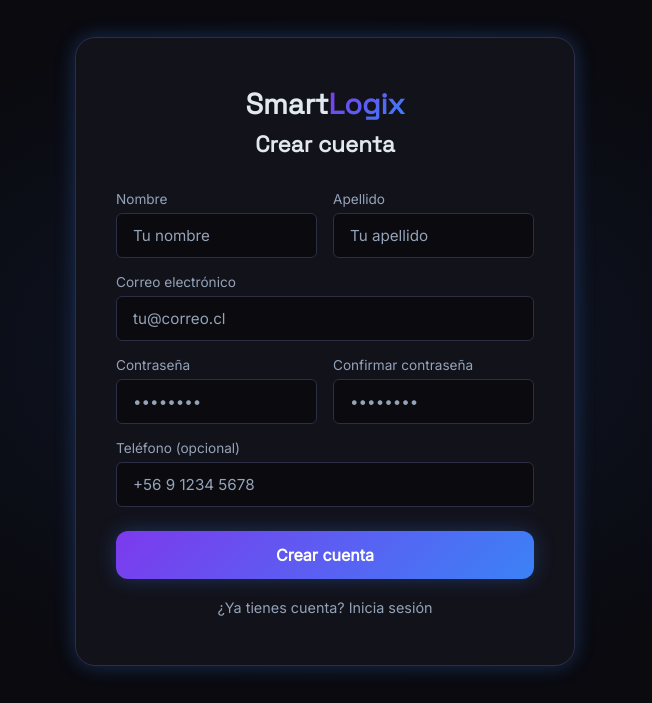
Test: HU-04 · Registro de usuario › CA3: muestra error si el correo es inválido
Type "Diego" into the field with test id "input-nombre" at (216, 235), box [116,212,317,258]
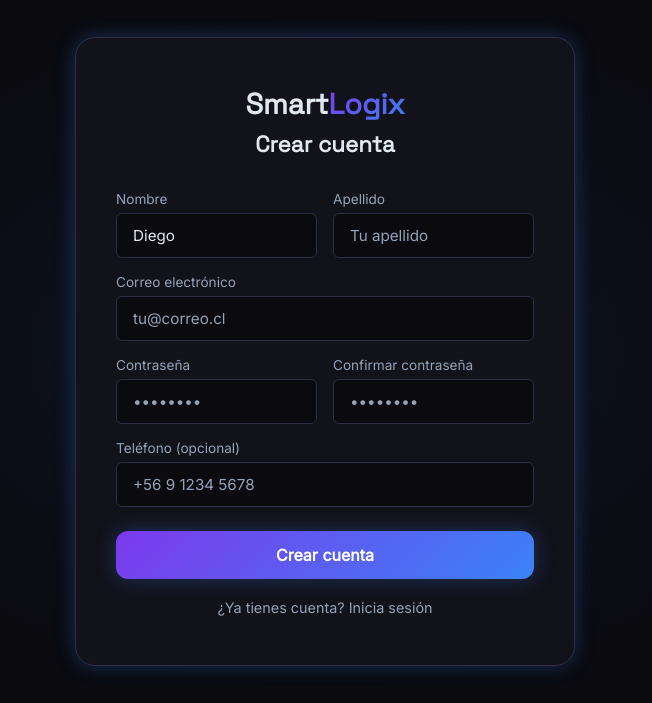
Type "Tatin" into the field with test id "input-apellido" at (434, 235), box [333,212,534,258]
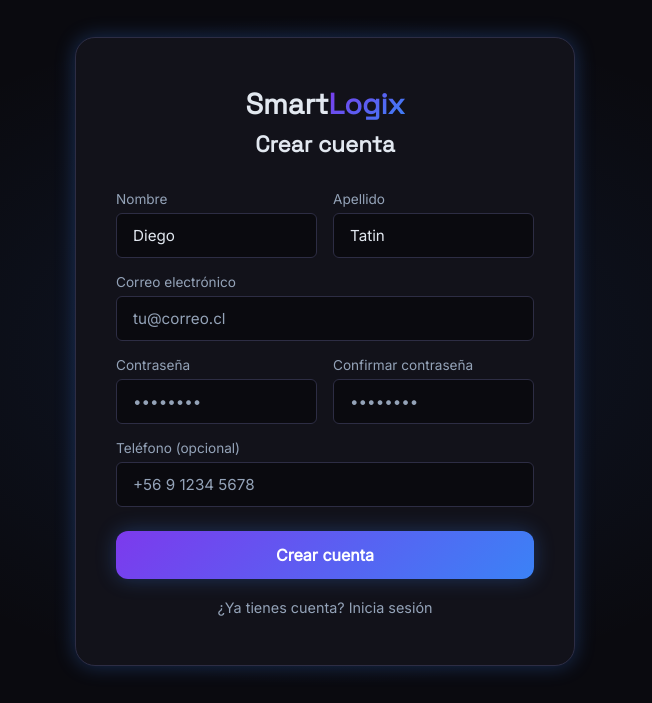
Type "correo-invalido" into the field with test id "input-correo" at (325, 318), box [116,296,534,340]
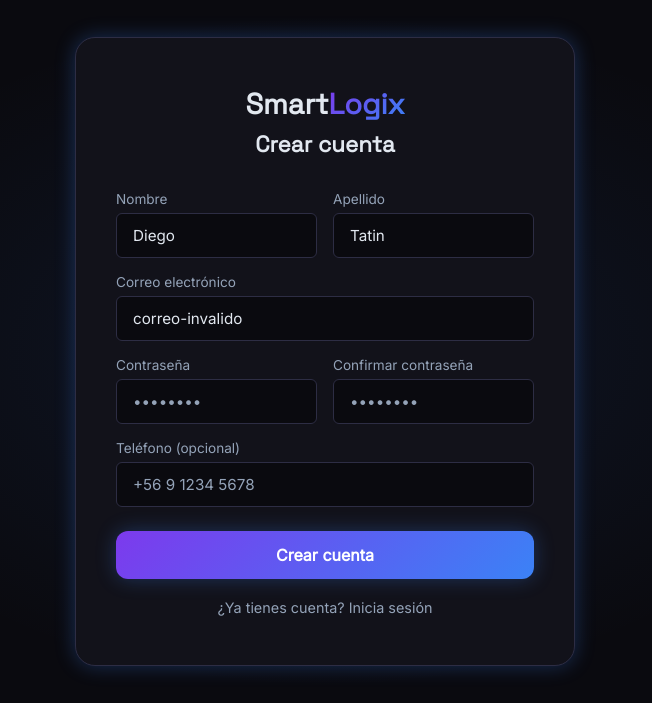
Type "password123" into the password field with test id "input-password" at (216, 401), box [116,378,317,424]
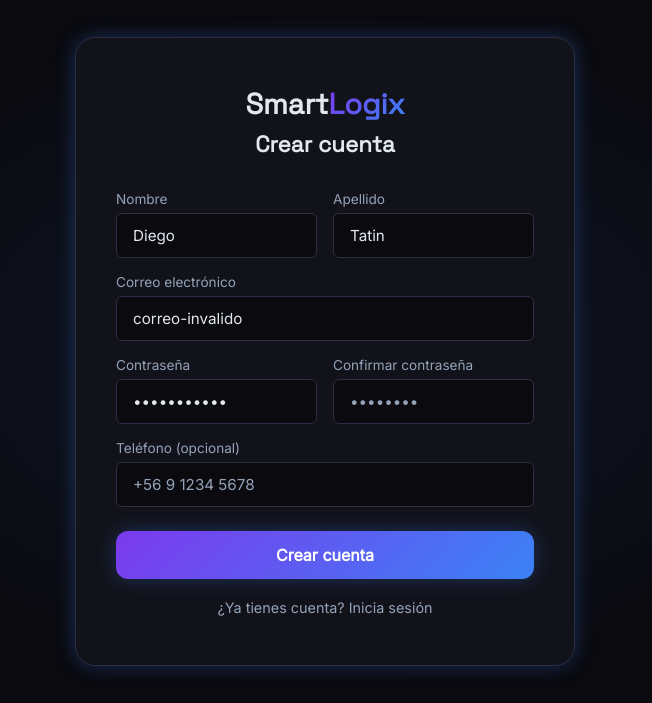
Type "password123" into the password field with test id "input-confirm-password" at (434, 401), box [333,378,534,424]
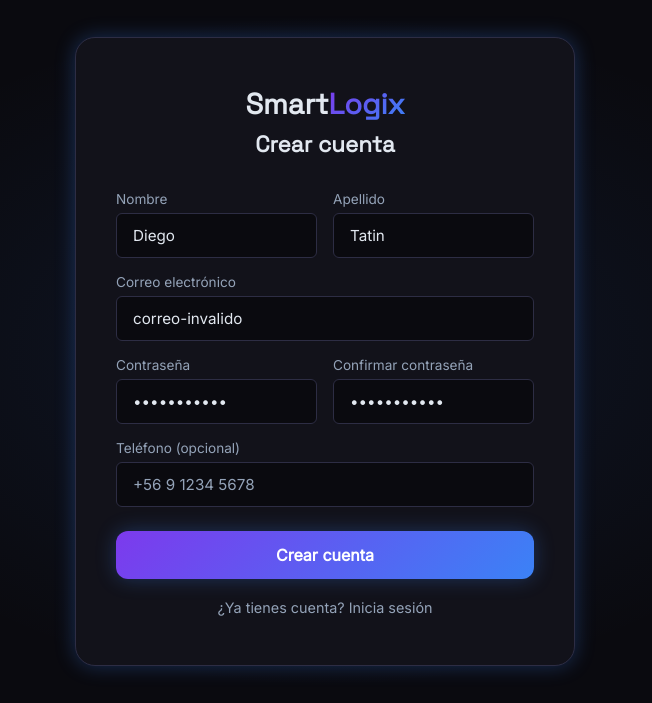
Click the button with test id "btn-registrar" at (325, 554), box [116,530,534,578]
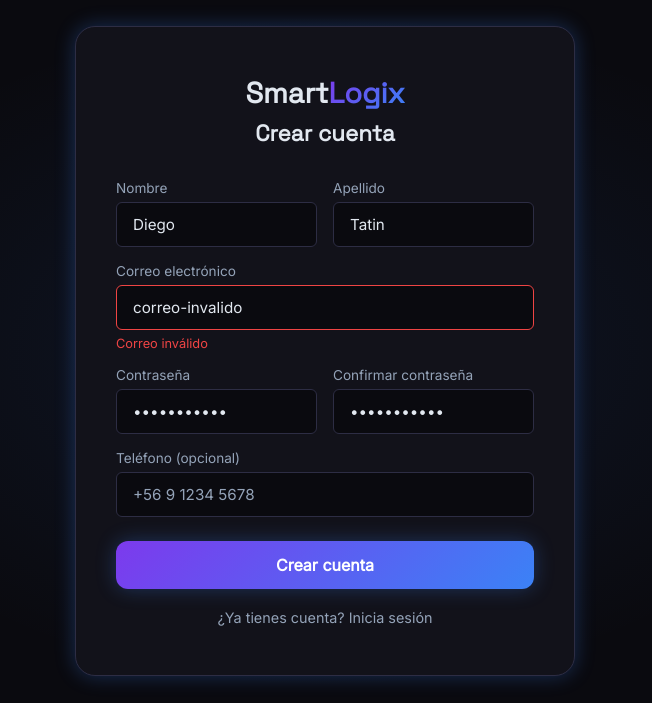
Expected: the text "Correo inválido" is shown, [116,336,208,351]
